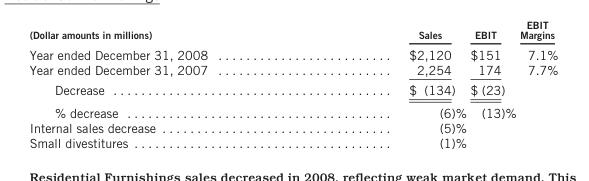table: (28, 28, 557, 149)
table column: (28, 28, 307, 149), (307, 28, 467, 149), (467, 28, 517, 149), (517, 28, 557, 149)
table column header: (28, 28, 557, 43)
table row: (28, 79, 557, 100), (28, 100, 557, 119), (28, 43, 557, 61), (28, 61, 557, 79), (28, 28, 557, 43), (28, 119, 557, 134), (28, 134, 557, 149)
